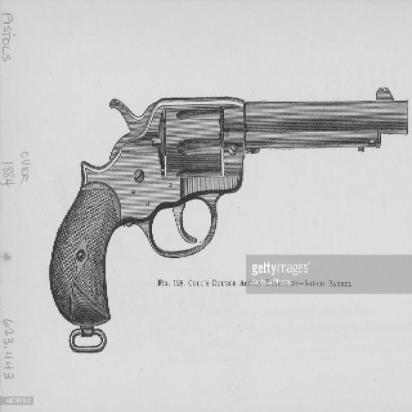Gun: (49, 80, 411, 352)
